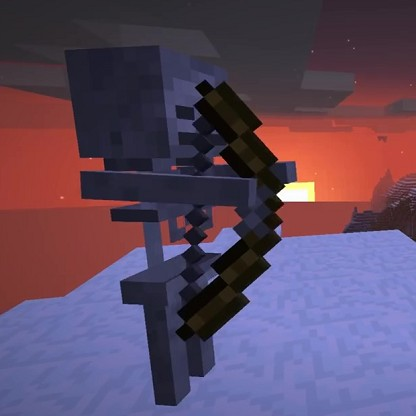skeleton: (63, 44, 280, 405)
